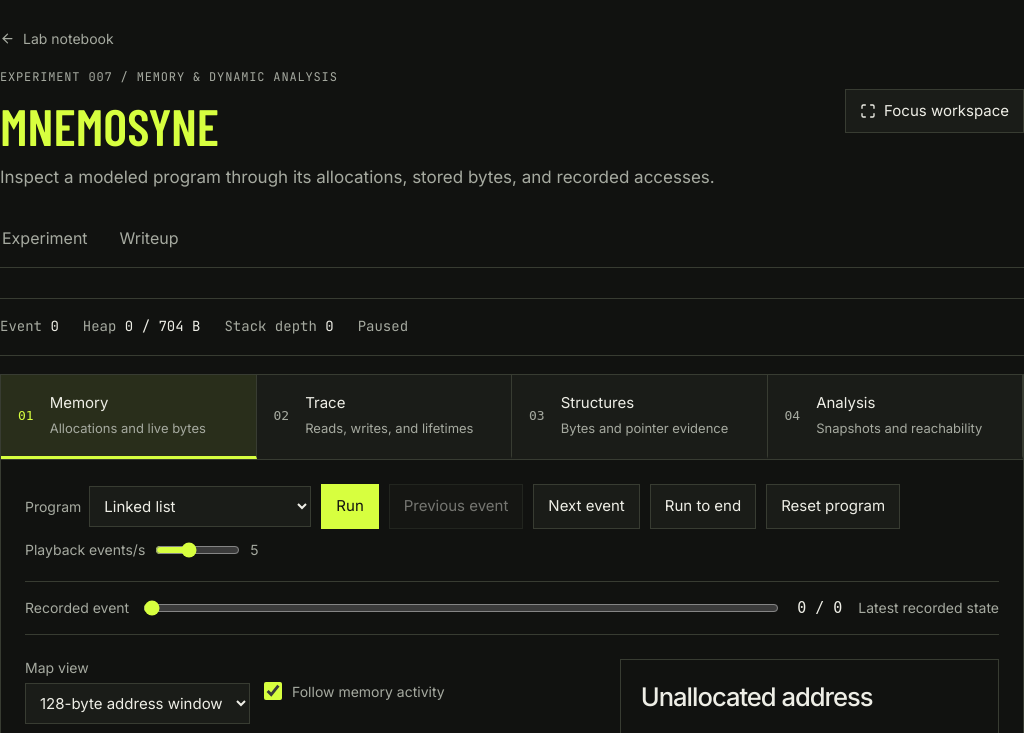
Scenario: trace inspection restores event-time bytes and retains future replay
Click the button "Run to end" at (703, 506), box [650,484,756,529]
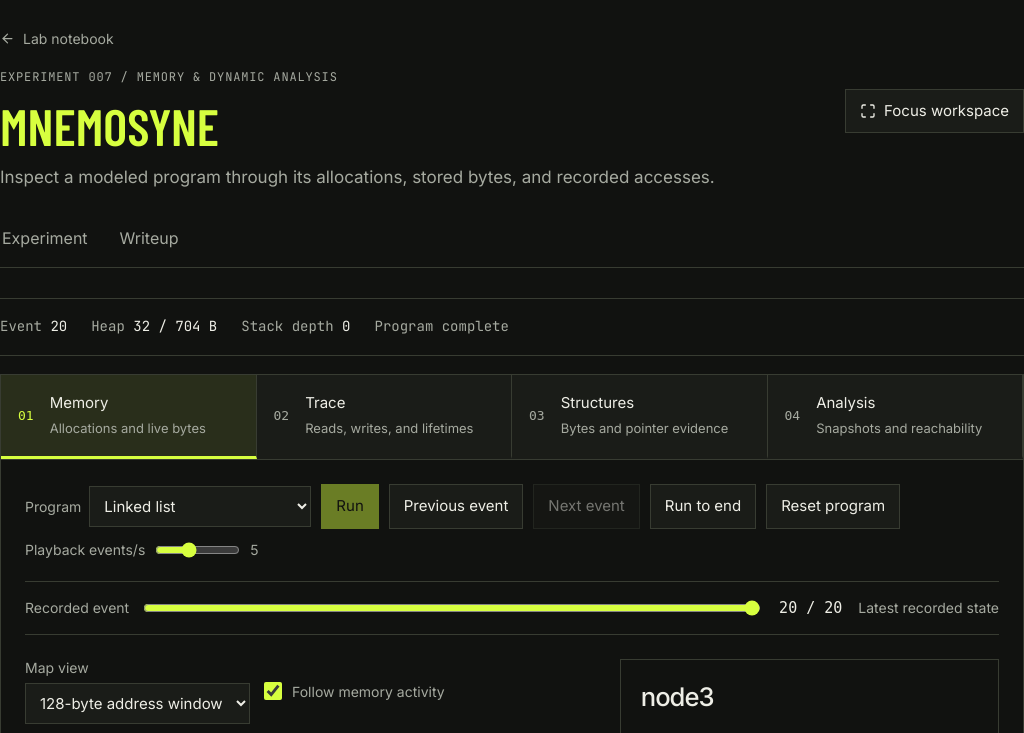
Click the tab "02 Trace Reads, writes, and lifetimes" at (384, 417), box [256,375,512,459]
(page scrolled)
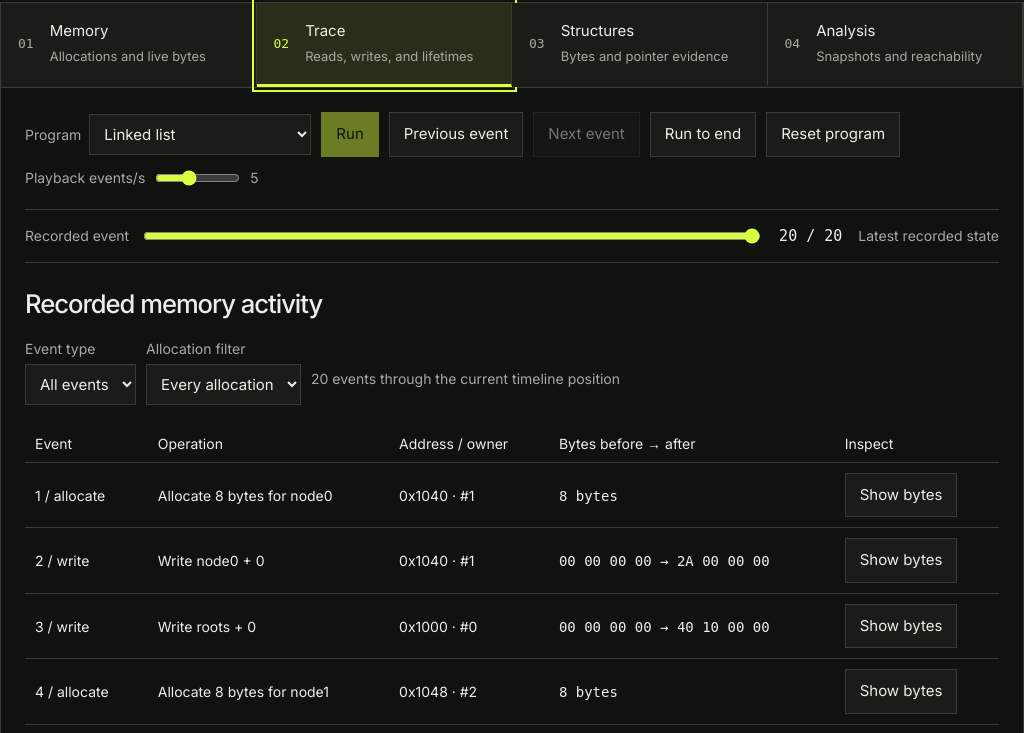
Select "write" in the dropdown labelled "Event type" at (80, 384), box [25,364,136,405]
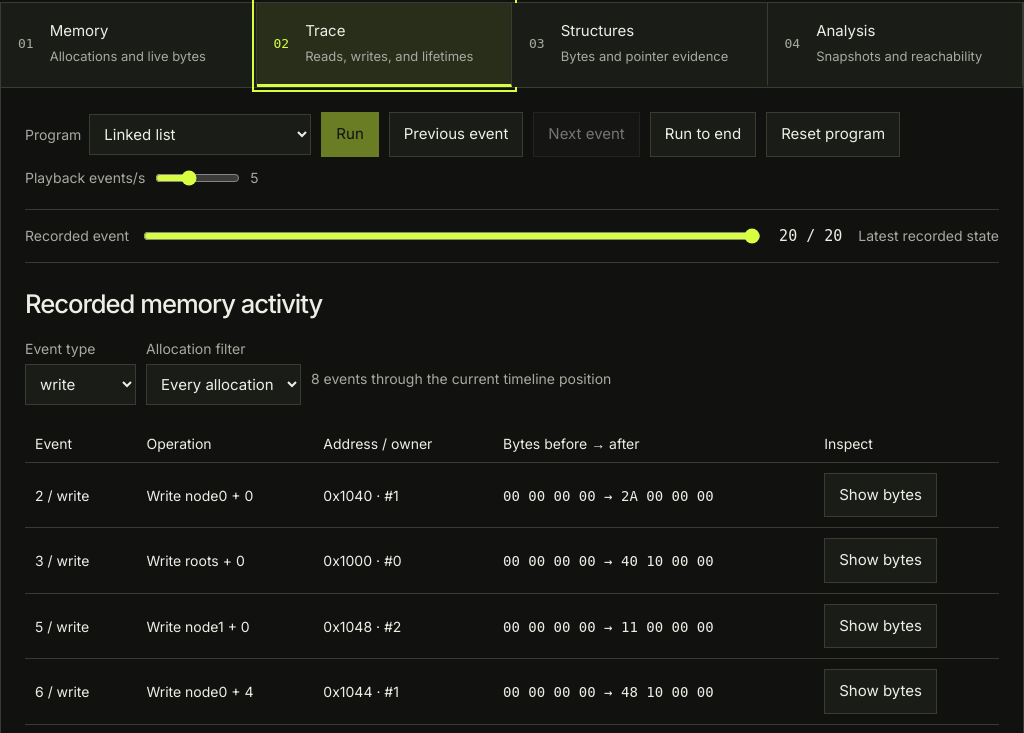
Click the button "Show bytes" in the row of "Write node0 + 0" at (881, 495), box [824,473,937,518]
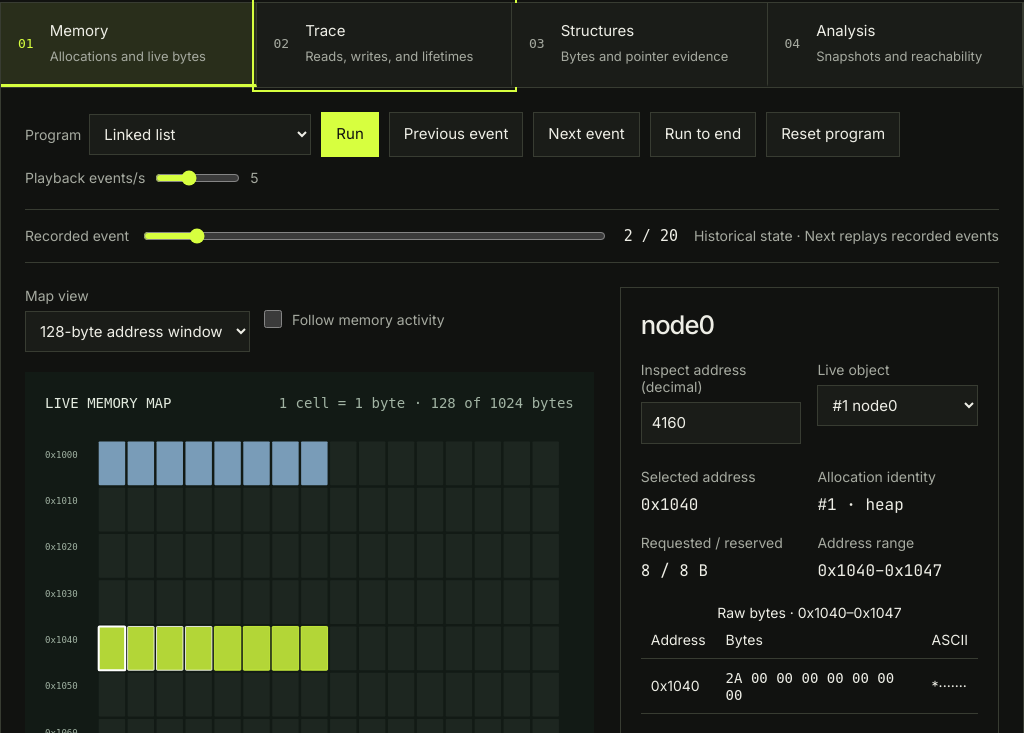
Expected: the text "2A 00 00 00 00 00 00 00" is shown, [726,670,894,703]
Expected: the checkbox labelled "Follow memory activity" is not checked, [264,310,282,328]
Click the button "Next event" at (587, 134), box [533,112,640,157]
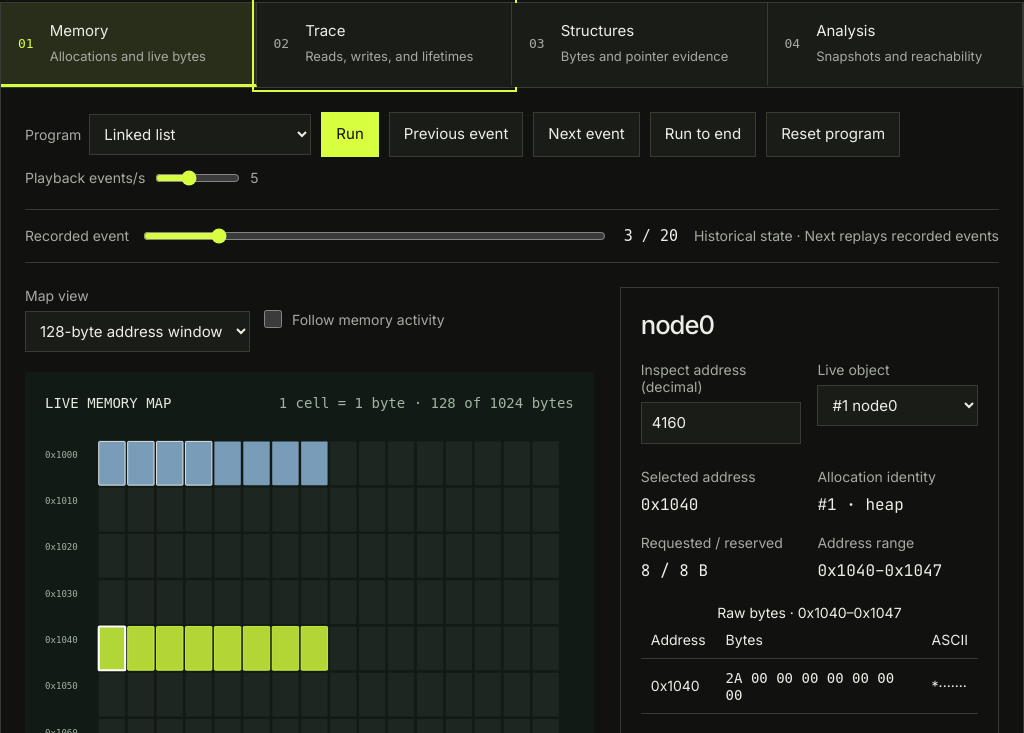
Click the button "Run to end" at (703, 134), box [650,112,756,157]
(page scrolled)
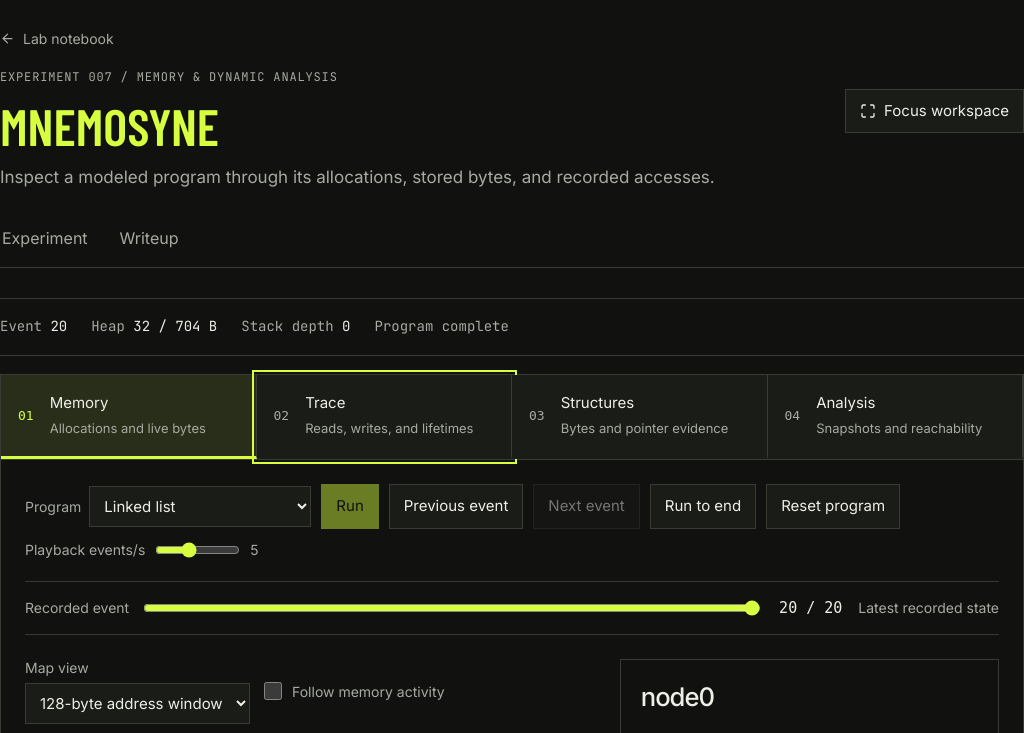
Expected: the element named "MNEMOSYNE summary" shows "Event 20", [0,298,1023,356]
